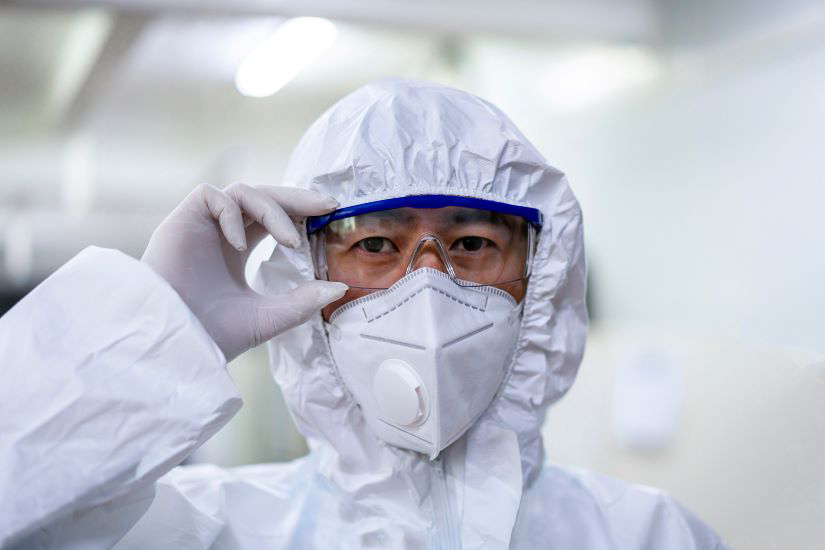Gloves: (137, 174, 352, 363)
Goggles: (310, 195, 542, 299)
with_mask: (324, 229, 524, 457)
